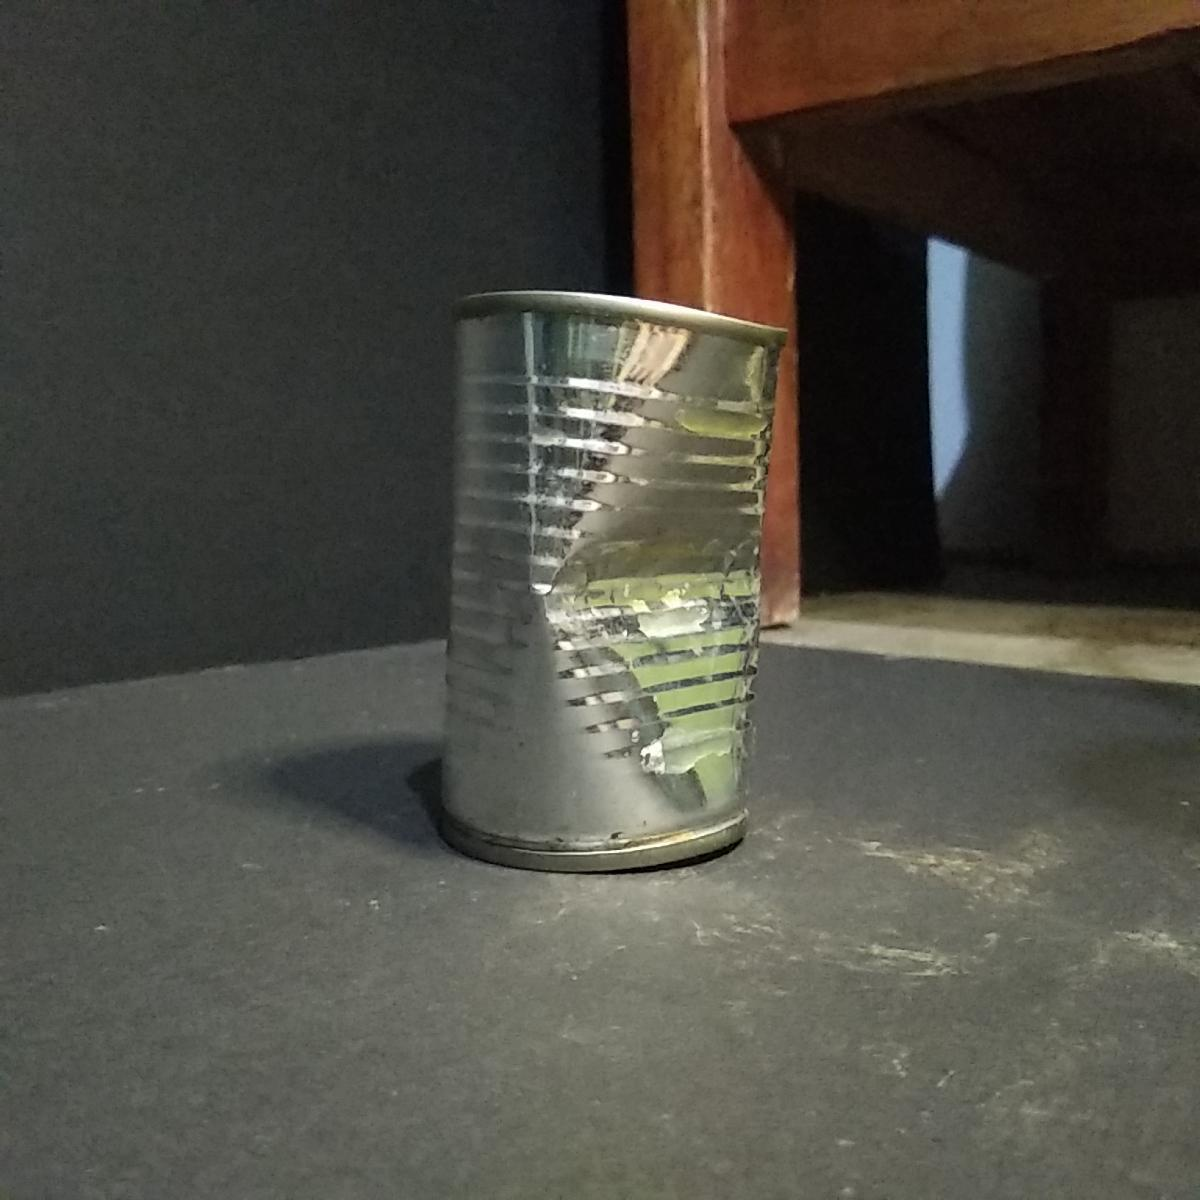Dented: (426, 276, 792, 882)
